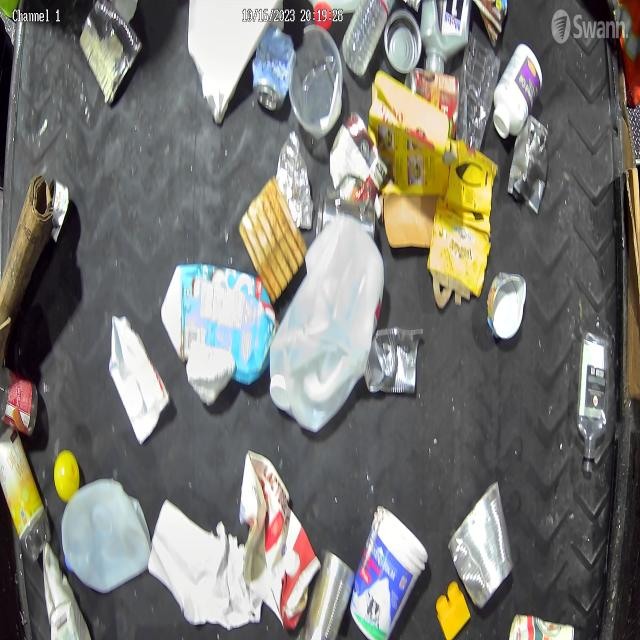can: (449, 479, 517, 617), (77, 5, 145, 106), (322, 105, 381, 219), (252, 20, 301, 118), (300, 548, 352, 640), (367, 319, 421, 404), (511, 113, 556, 213), (485, 264, 529, 355), (378, 5, 421, 90)
milk_jug: (268, 215, 386, 434), (61, 479, 152, 596)
non_white_jug: (370, 72, 470, 215), (418, 0, 474, 85)
plastic_bottle: (456, 42, 498, 158), (341, 0, 393, 81)
